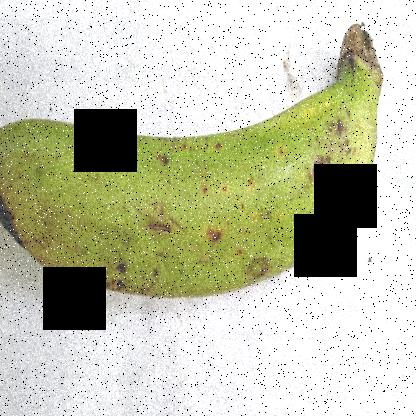unripe: (5, 1, 394, 378)
